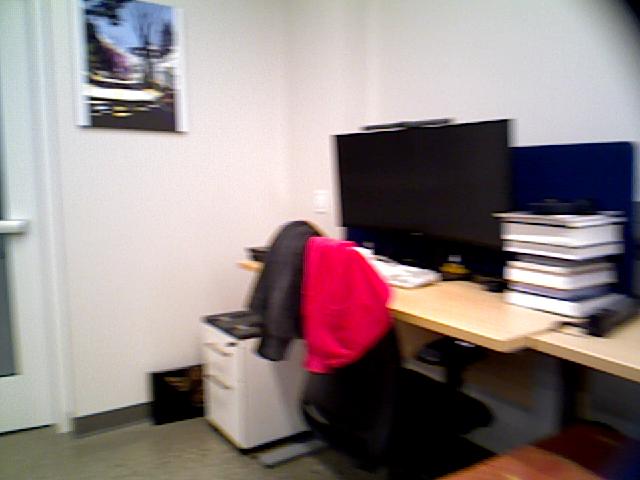painting3: (68, 1, 187, 131)
